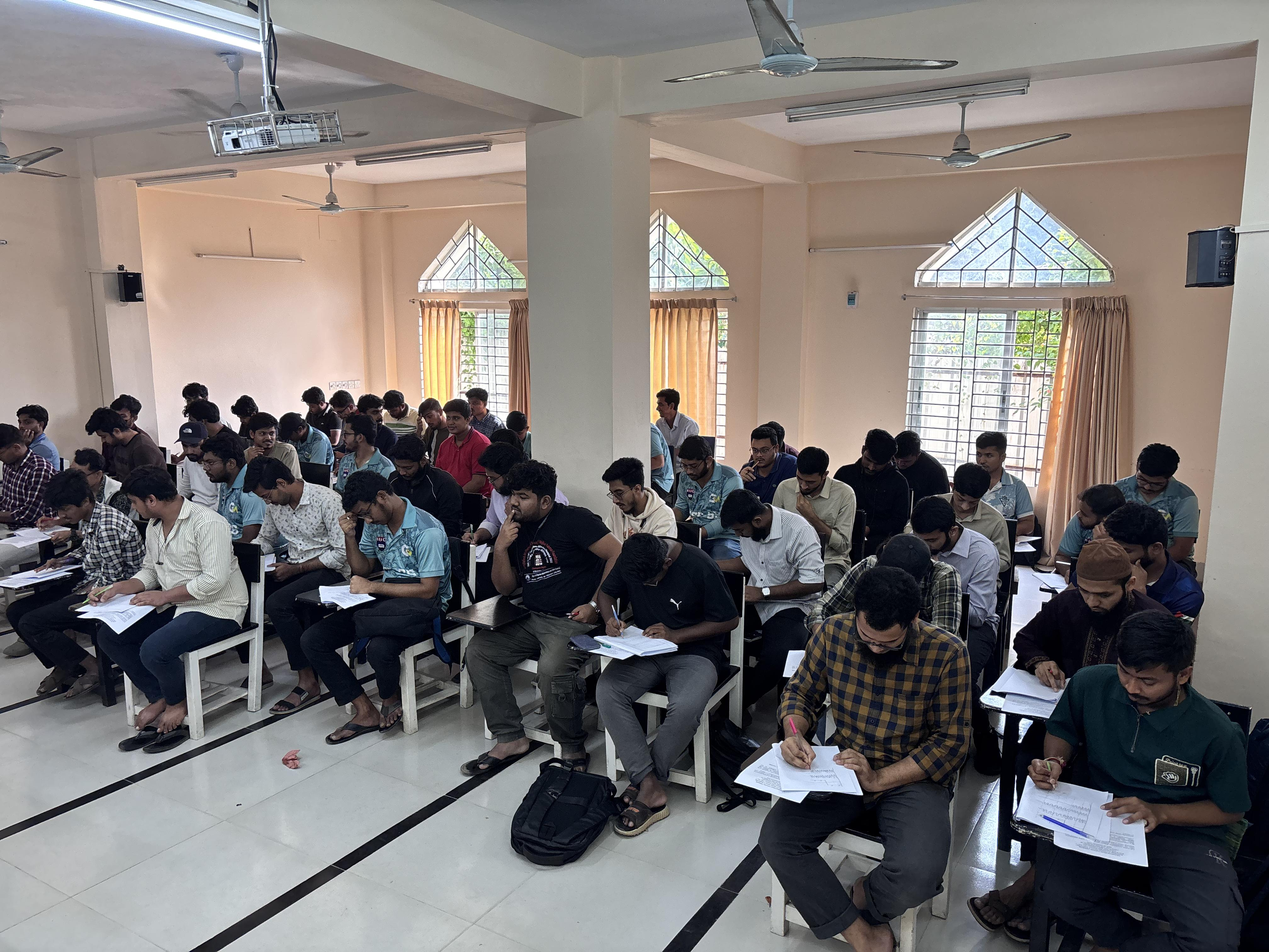copying: (108, 470, 214, 641), (473, 446, 515, 505), (167, 424, 202, 475)
hidden_communication: (1064, 482, 1113, 535)
no_cheating: (1028, 609, 1237, 841), (795, 567, 941, 804), (474, 456, 593, 743), (590, 527, 707, 704), (331, 476, 420, 648), (718, 480, 815, 631), (238, 458, 319, 589), (34, 468, 111, 598), (1061, 535, 1136, 634), (784, 444, 856, 541), (593, 444, 663, 540), (850, 414, 913, 518), (902, 494, 980, 573), (78, 399, 148, 479), (675, 438, 744, 516), (389, 434, 444, 512), (939, 463, 1010, 523), (1128, 438, 1180, 505), (0, 422, 31, 529), (14, 399, 61, 468), (741, 423, 796, 480), (198, 433, 242, 504), (278, 405, 324, 460), (969, 427, 1018, 475), (440, 399, 477, 459), (184, 397, 227, 432), (382, 382, 412, 432), (324, 387, 358, 429), (416, 394, 446, 436), (297, 385, 327, 424)
side_talking: (336, 415, 383, 475), (647, 384, 692, 441), (245, 408, 292, 456), (359, 390, 389, 428)
